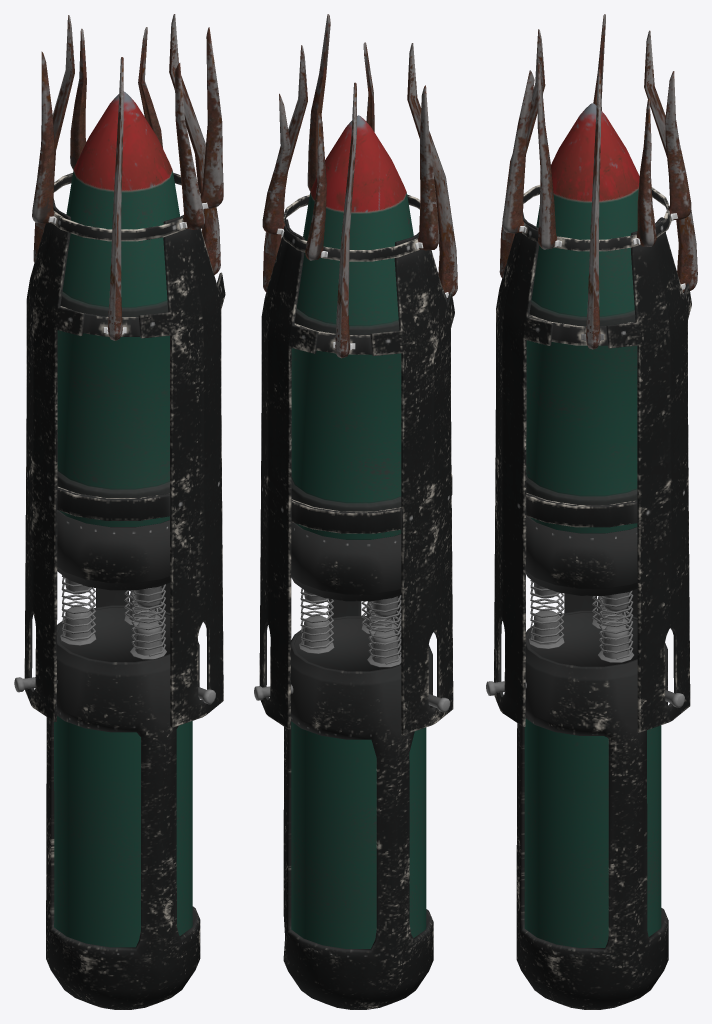
The model's file is missile.fbx.
3 views of the same model, side by side, from view 1: azimuth 30°, elevation 25°; view 2: azimuth 150°, elevation 25°; view 3: azimuth 270°, elevation 25° (orthographic). The views are drawn at different scales.
Parts seen in each view (by area): view 1: top casing, bottom case, misile, bottom missile, Spiral.004, bottom ring, spike.003, spike.007, spike.002, spike.001, spike, top ring (+5 smaller); view 2: top casing, bottom case, misile, bottom missile, Spiral.004, spike.003, bottom ring, spike.005, spike.001, spike.004, top ring, spike.002 (+5 smaller); view 3: top casing, bottom case, misile, bottom missile, Spiral.004, bottom ring, spike.002, spike.005, spike, spike.006, spike.007, spike.004 (+4 smaller).
Part boxes in pixels (<box>): top casing: <box>24,199,225,727</box>; bottom case: <box>46,510,200,1009</box>; misile: <box>57,91,179,526</box>; bottom missile: <box>54,716,192,947</box>; Spiral.004: <box>60,575,166,659</box>; bottom ring: <box>57,486,170,520</box>; spike.003: <box>107,57,123,340</box>; spike.007: <box>200,27,223,208</box>; spike.002: <box>169,14,220,274</box>; spike.001: <box>32,51,54,223</box>; spike: <box>175,63,204,229</box>; top ring: <box>51,172,200,241</box>; top casing: <box>259,219,454,735</box>; bottom case: <box>283,522,433,1009</box>; misile: <box>291,115,413,539</box>; bottom missile: <box>291,721,426,948</box>; Spiral.004: <box>299,588,401,667</box>; spike.003: <box>407,43,457,298</box>; bottom ring: <box>291,474,452,533</box>; spike.005: <box>335,82,356,358</box>; spike.001: <box>417,85,439,250</box>; spike.004: <box>262,93,290,234</box>; top ring: <box>282,194,420,261</box>; spike.002: <box>263,45,307,292</box>; top casing: <box>494,212,691,732</box>; bottom case: <box>516,516,668,1009</box>; misile: <box>526,103,639,533</box>; bottom missile: <box>524,718,661,947</box>; Spiral.004: <box>528,579,634,662</box>; bottom ring: <box>526,493,637,527</box>; spike.002: <box>586,69,600,349</box>; spike.005: <box>644,30,697,292</box>; spike: <box>502,70,534,233</box>; spike.006: <box>665,71,691,220</box>; spike.007: <box>537,62,556,249</box>; spike.004: <box>636,98,656,246</box>.
Bounding box in the file's own units: 23.88 × 112 × 22.49.
2 materials, 1 textured.
